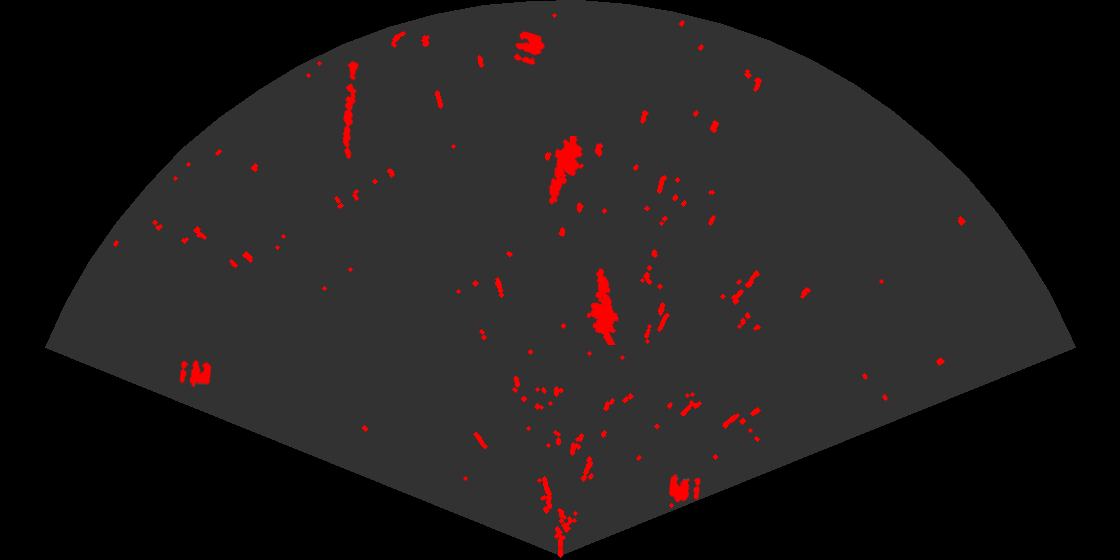ball: (512, 30, 546, 66), (667, 472, 702, 504), (178, 358, 213, 389)
chain: (341, 59, 360, 160)
frogman: (585, 267, 620, 345), (548, 136, 586, 206)
